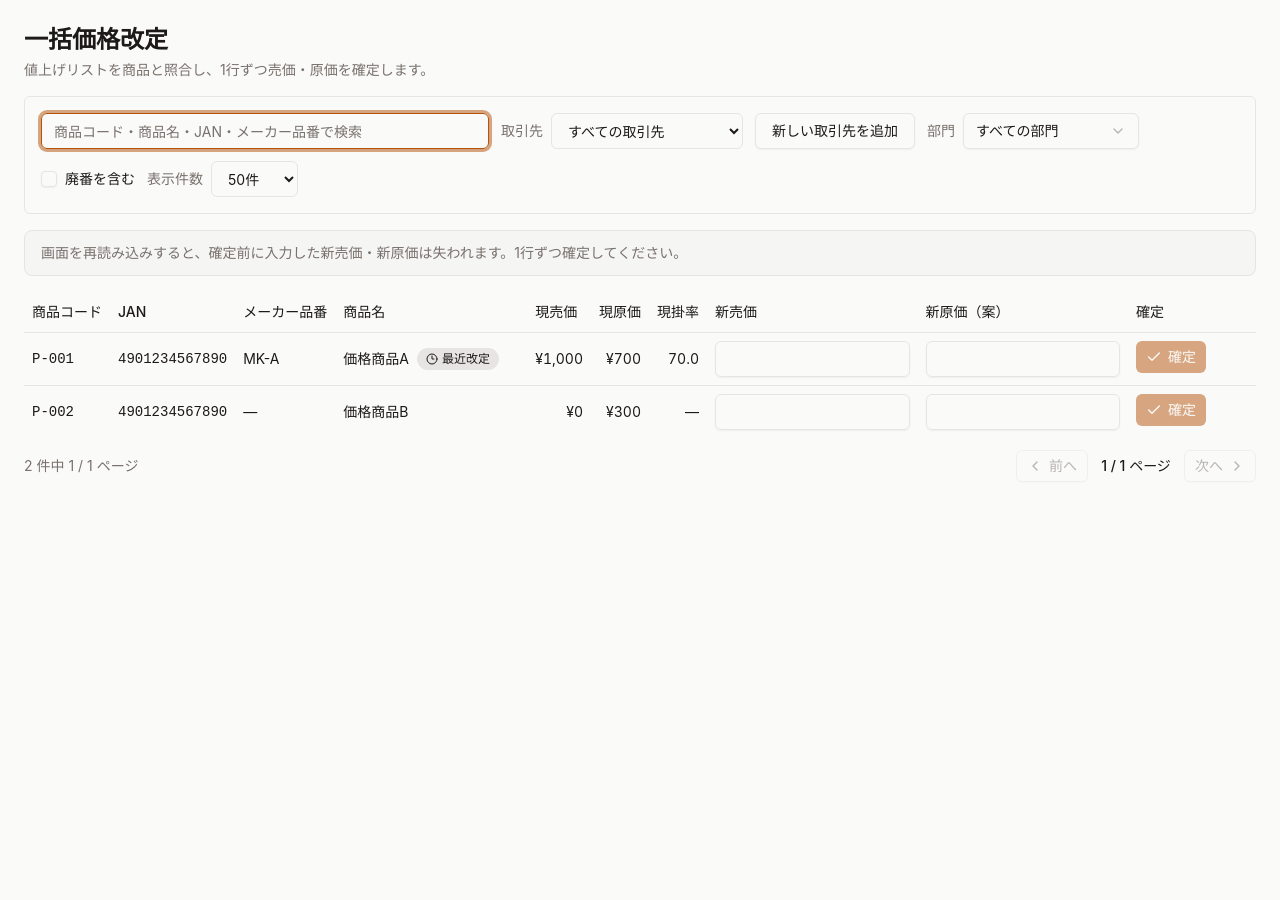
it: PriceRevisionPage UI-14 / REQ-105 › 新しい取引先を追加すると createSupplier 後に listSuppliers を再取得し追加した取引先が filter で選択状態になる
Expected: the text "P-001" is shown, [24,332,110,385]
Click the button "新しい取引先を追加": (835, 131) [755,113,915,149]
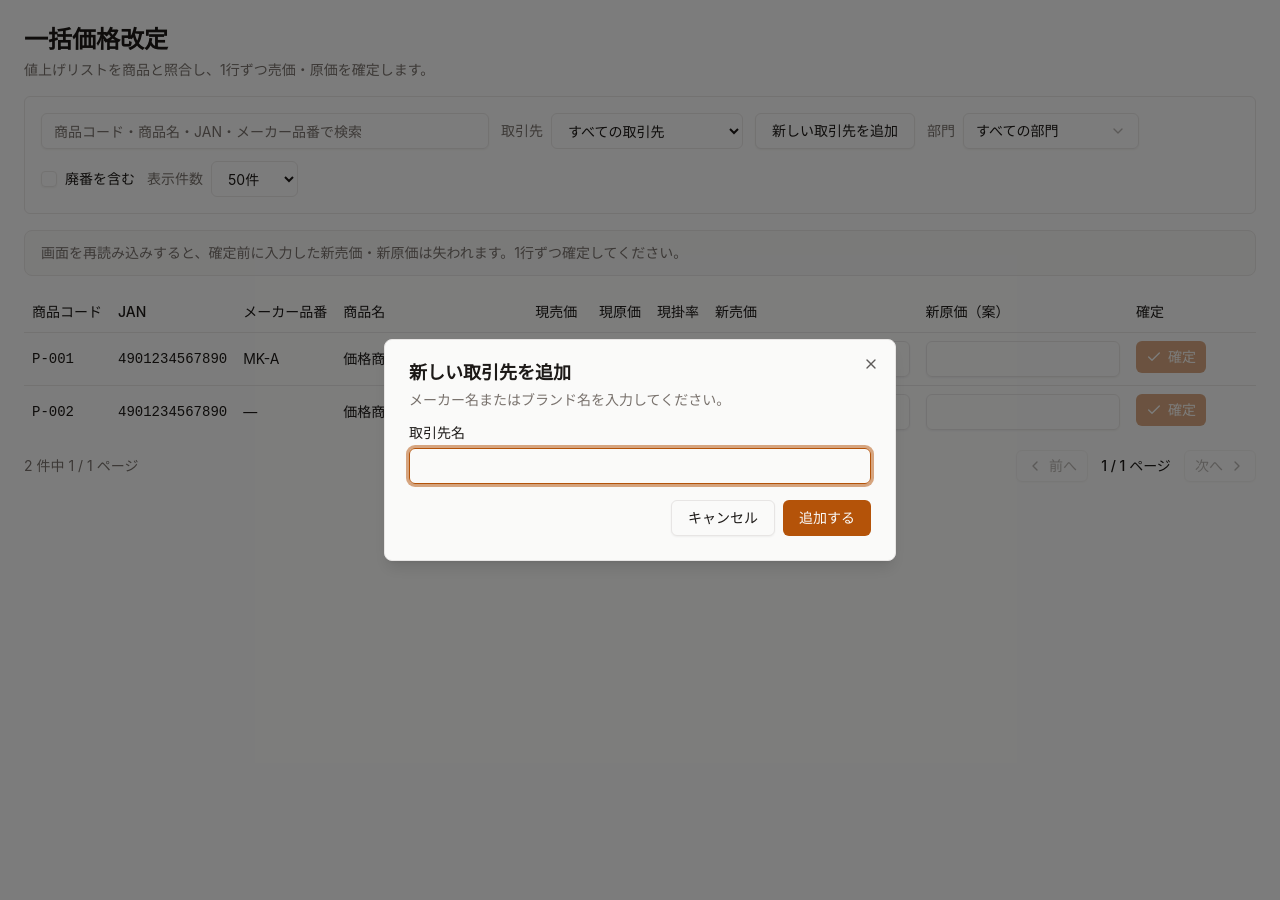
In the field labelled "取引先名": (640, 466) [409,448,871,484], type "  新規取引先  "
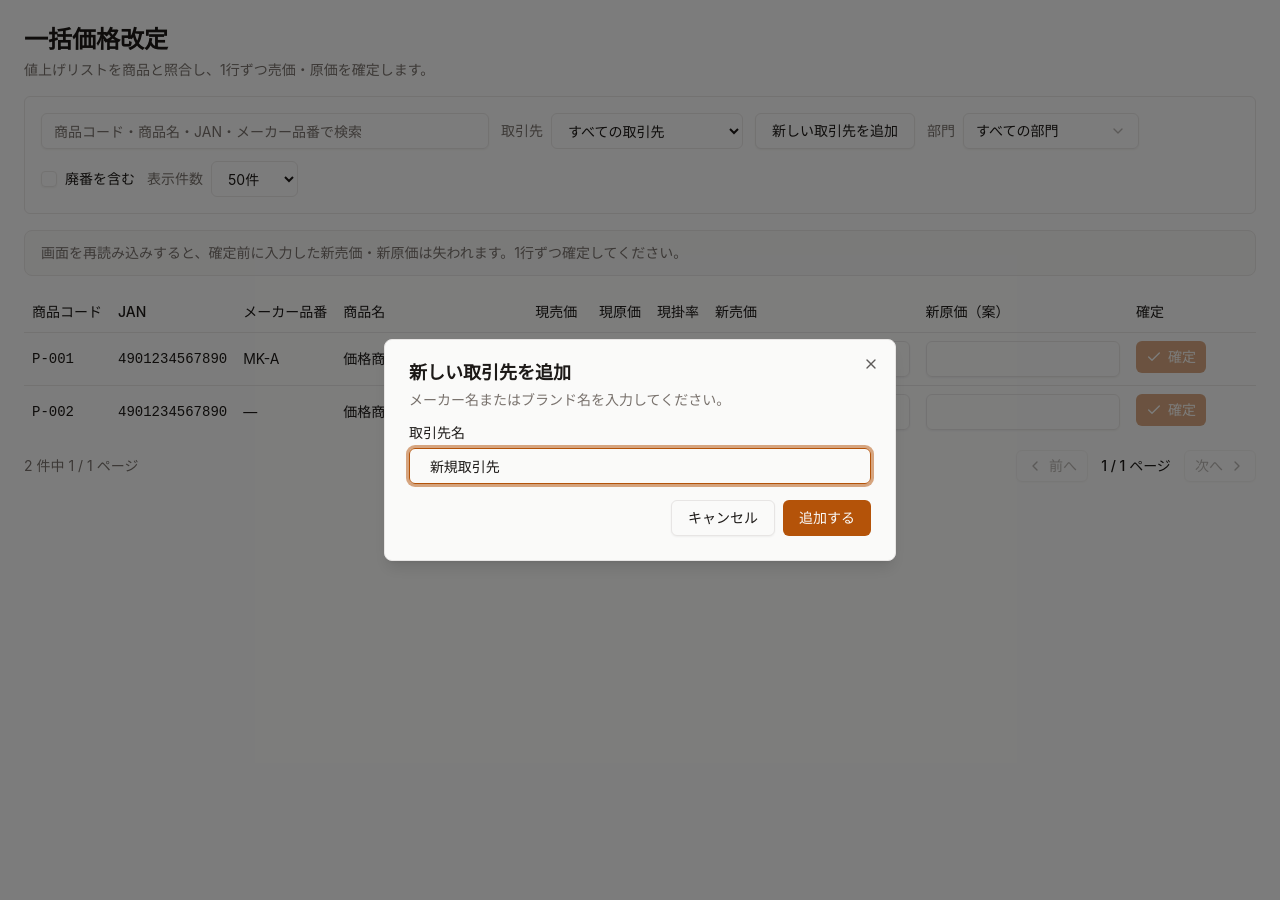
Click the button "追加する": (827, 518) [783,500,871,536]
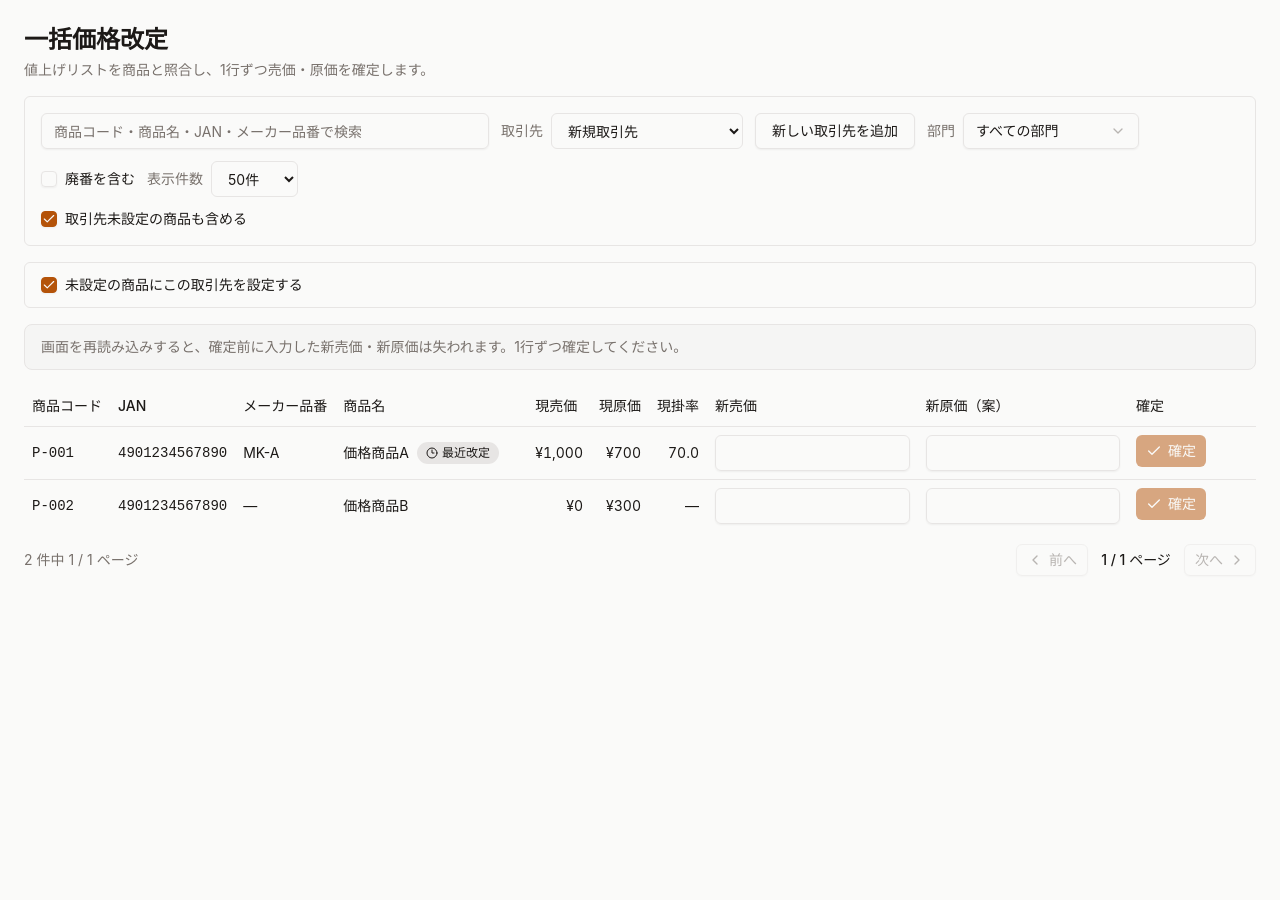
Expected: the dropdown labelled "取引先" shows "新規取引先", [551,113,743,149]
Expected: the checkbox named "取引先未設定の商品も含める" next to "取引先未設定の商品も含める" is checked, [41,211,57,227]
